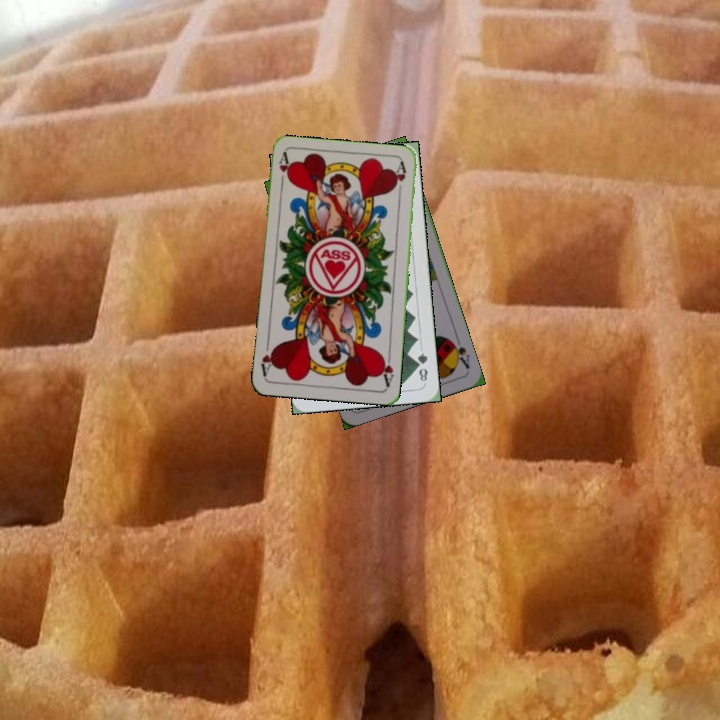G8: (413, 349, 430, 384)
HA: (377, 348, 396, 389), (275, 150, 292, 191)
SA: (446, 335, 472, 372)
